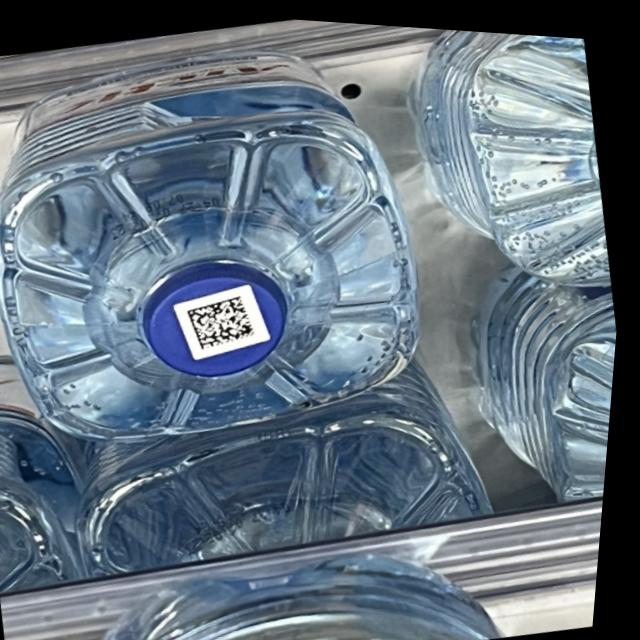datamatrix: (189, 288, 264, 351)
